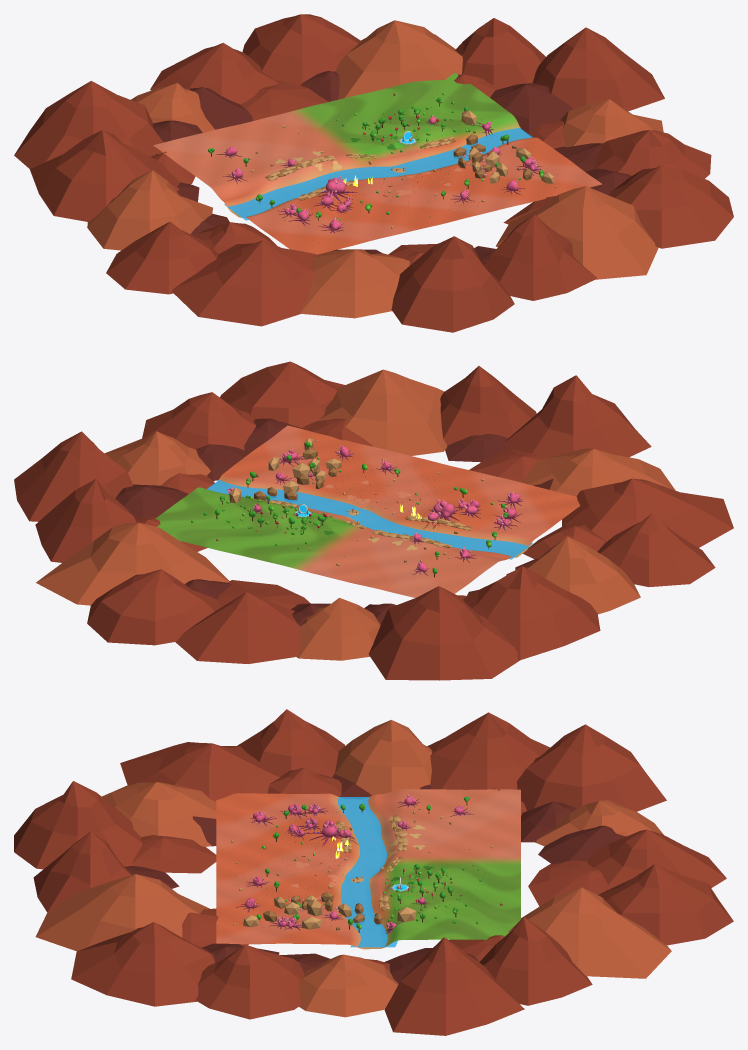
File: kelosi_outdoor.glb
3 renders of one model, top to bottom at view 1: azimuth 30°, elevation 25°; view 2: azimuth 150°, elevation 25°; view 3: azimuth 270°, elevation 25°, orthographic. The views are drawn at different scales.
Parts seen in each view (by area): view 1: m_bg_mountain, kelosi_terrain, m_bg_mountain_light, m_bg_mountain_dark, water_river, m_k_rock_warm, m_k_coral_pink, m_k_rock_shadow, m_k_tree_green; view 2: m_bg_mountain, kelosi_terrain, m_bg_mountain_light, m_bg_mountain_dark, water_river, m_k_rock_warm, m_k_coral_pink, m_k_rock_shadow, m_k_tree_green; view 3: m_bg_mountain, kelosi_terrain, m_bg_mountain_light, m_bg_mountain_dark, water_river, m_k_rock_warm, m_k_coral_pink, m_k_rock_shadow, m_k_tree_green, m_k_vine.
Boxes of the visible parts, <box> form: m_bg_mountain: <box>14,14,733,332</box>; kelosi_terrain: <box>153,72,602,254</box>; m_bg_mountain_light: <box>87,20,663,318</box>; m_bg_mountain_dark: <box>152,71,631,265</box>; water_river: <box>224,128,532,220</box>; m_k_rock_warm: <box>230,110,556,228</box>; m_k_coral_pink: <box>225,116,537,230</box>; m_k_rock_shadow: <box>255,93,532,200</box>; m_k_tree_green: <box>208,92,543,243</box>; m_bg_mountain: <box>14,361,733,680</box>; kelosi_terrain: <box>155,425,579,597</box>; m_bg_mountain_light: <box>36,369,675,660</box>; m_bg_mountain_dark: <box>115,418,562,626</box>; water_river: <box>207,480,532,559</box>; m_k_rock_warm: <box>229,438,484,565</box>; m_k_coral_pink: <box>228,446,520,571</box>; m_k_rock_shadow: <box>216,448,472,562</box>; m_k_tree_green: <box>191,442,508,573</box>; m_bg_mountain: <box>14,709,733,1035</box>; kelosi_terrain: <box>216,789,520,949</box>; m_bg_mountain_light: <box>35,720,671,1017</box>; m_bg_mountain_dark: <box>125,773,625,983</box>; water_river: <box>337,797,397,947</box>; m_k_rock_warm: <box>231,808,492,929</box>; m_k_coral_pink: <box>245,796,464,928</box>; m_k_rock_shadow: <box>263,815,503,930</box>; m_k_tree_green: <box>237,796,488,927</box>; m_k_vine: <box>235,799,473,933</box>.
Size of the model in its own units: 457 by 48.45 by 454.
